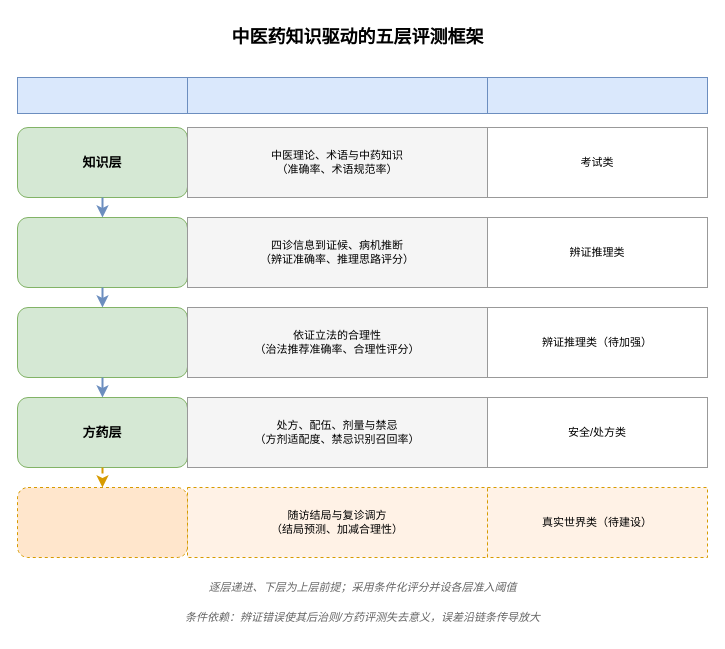
This 725x649 diagram has some shape labels left out. Here are the shapes that lost their labels. From the top down, the box of each, then its label:
(16, 76, 188, 114): 层级
(186, 76, 488, 114): 评测重点
(486, 76, 708, 114): 对应基准类别
(16, 216, 188, 288): 辨证层
(16, 306, 188, 378): 治则层
(16, 486, 188, 558): 疗效层（目标层）
